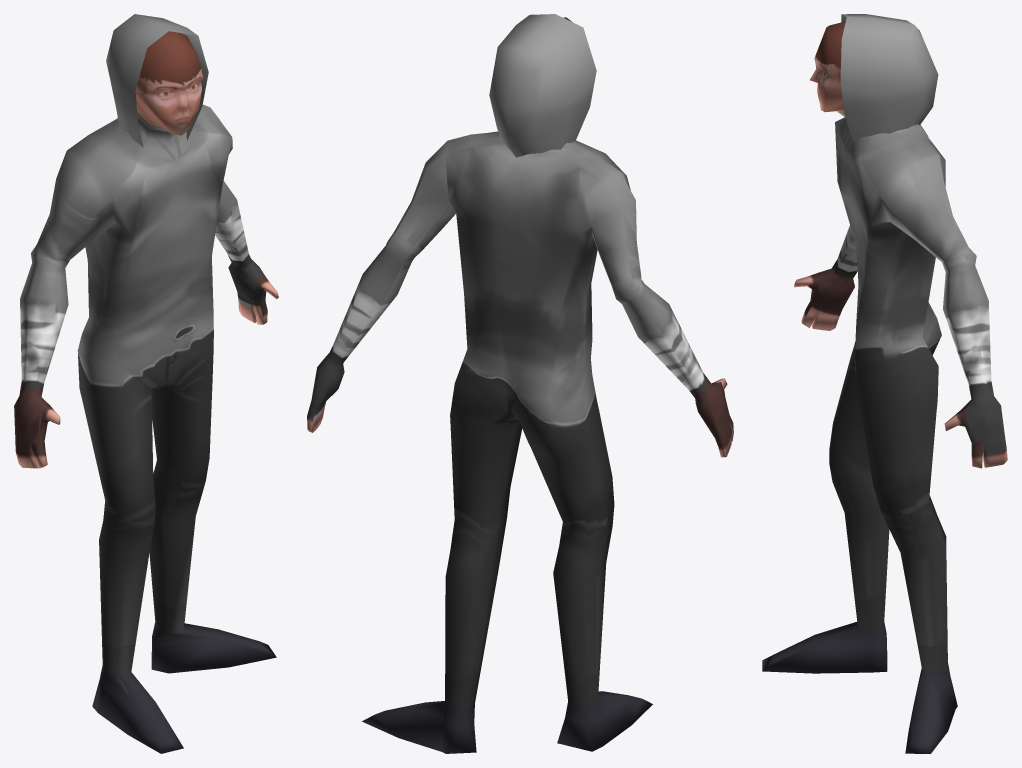
File: Digta Model_BC.fbx
The picture shows the model from 3 angles, left to right: view 1: azimuth 30°, elevation 25°; view 2: azimuth 150°, elevation 25°; view 3: azimuth 270°, elevation 25°; orthographic projection. The views are drawn at different scales.
Visible parts, largest first — view 1: Body, Hoodie; view 2: Body, Hoodie; view 3: Body, Hoodie.
Part boxes in pixels (x1=…): Body: x1=14, y1=31, x2=278, y2=753; Hoodie: x1=106, y1=14, x2=208, y2=147; Body: x1=307, y1=17, x2=733, y2=753; Hoodie: x1=489, y1=14, x2=596, y2=157; Body: x1=762, y1=21, x2=1007, y2=753; Hoodie: x1=840, y1=14, x2=938, y2=142.
Size of the model in its own units: 221 by 449 by 149.
Materials: 2 (2 with a texture image).
